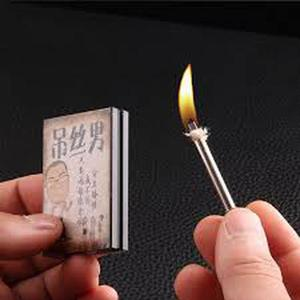fire: (172, 57, 206, 121)
